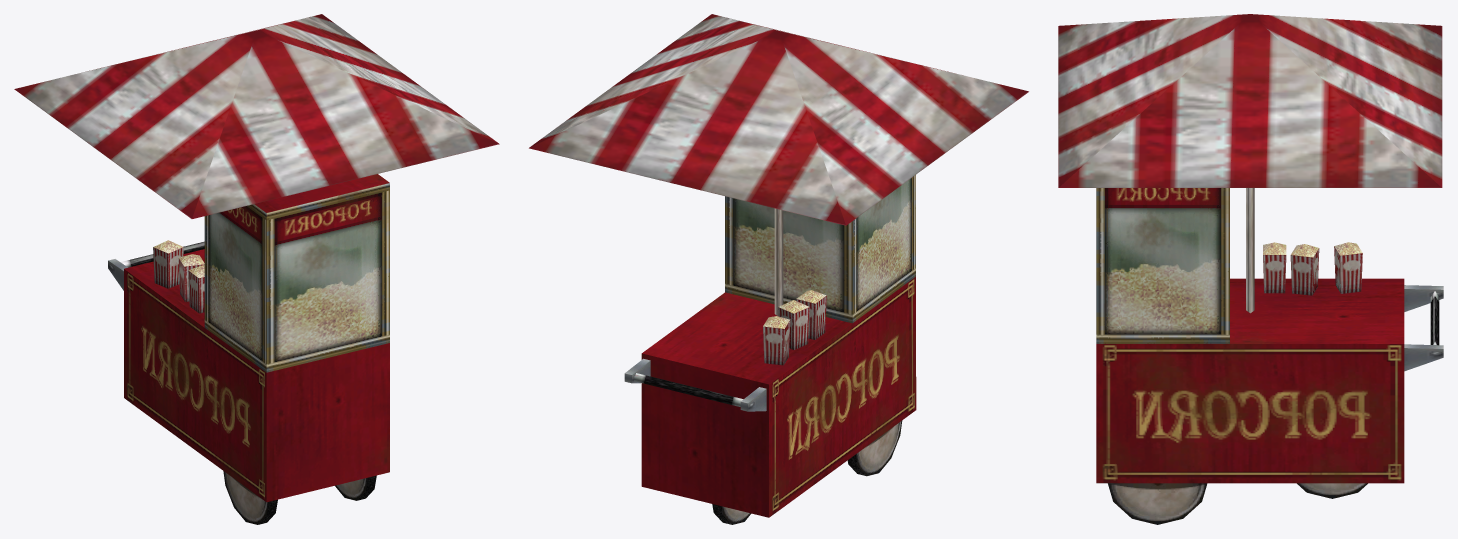
File: popcorn_cart.fbx
3 views of the same model, side by side, from view 1: azimuth 30°, elevation 25°; view 2: azimuth 150°, elevation 25°; view 3: azimuth 270°, elevation 25° (orthographic). The views are drawn at different scales.
Parts seen in each view (by area): view 1: mesh_0, mesh_8, mesh_9, mesh_4, mesh_12, mesh_10, mesh_5, mesh_11; view 2: mesh_0, mesh_8, mesh_9, mesh_4, mesh_12, mesh_11, mesh_1, mesh_3, mesh_10; view 3: mesh_0, mesh_8, mesh_9, mesh_5, mesh_12, mesh_11, mesh_10, mesh_1, mesh_7, mesh_6, mesh_2, mesh_3.
Boxes of the visible parts, left/top/right/bottom form: mesh_0: left=124, top=174, right=389, bottom=502; mesh_8: left=14, top=14, right=499, bottom=218; mesh_9: left=17, top=16, right=497, bottom=217; mesh_4: left=223, top=471, right=277, bottom=524; mesh_12: left=153, top=240, right=183, bottom=288; mesh_10: left=188, top=265, right=204, bottom=313; mesh_5: left=335, top=475, right=376, bottom=500; mesh_11: left=178, top=254, right=204, bottom=301; mesh_0: left=641, top=175, right=916, bottom=517; mesh_8: left=529, top=14, right=1028, bottom=225; mesh_9: left=533, top=14, right=1027, bottom=224; mesh_4: left=847, top=420, right=902, bottom=476; mesh_12: left=763, top=316, right=790, bottom=365; mesh_11: left=778, top=300, right=809, bottom=349; mesh_1: left=774, top=208, right=783, bottom=315; mesh_3: left=634, top=373, right=743, bottom=406; mesh_10: left=796, top=290, right=826, bottom=339; mesh_0: left=1096, top=188, right=1404, bottom=483; mesh_8: left=1058, top=14, right=1442, bottom=187; mesh_9: left=1058, top=14, right=1442, bottom=187; mesh_5: left=1108, top=483, right=1207, bottom=524; mesh_12: left=1334, top=242, right=1362, bottom=293; mesh_11: left=1290, top=244, right=1319, bottom=295; mesh_10: left=1263, top=242, right=1286, bottom=293; mesh_1: left=1246, top=188, right=1254, bottom=313; mesh_7: left=1404, top=344, right=1443, bottom=371; mesh_6: left=1297, top=483, right=1367, bottom=498; mesh_2: left=1404, top=285, right=1443, bottom=311; mesh_3: left=1430, top=291, right=1439, bottom=345.
Bounding box in the file's own units: 187 × 259 × 188.
1 material, 1 textured.
